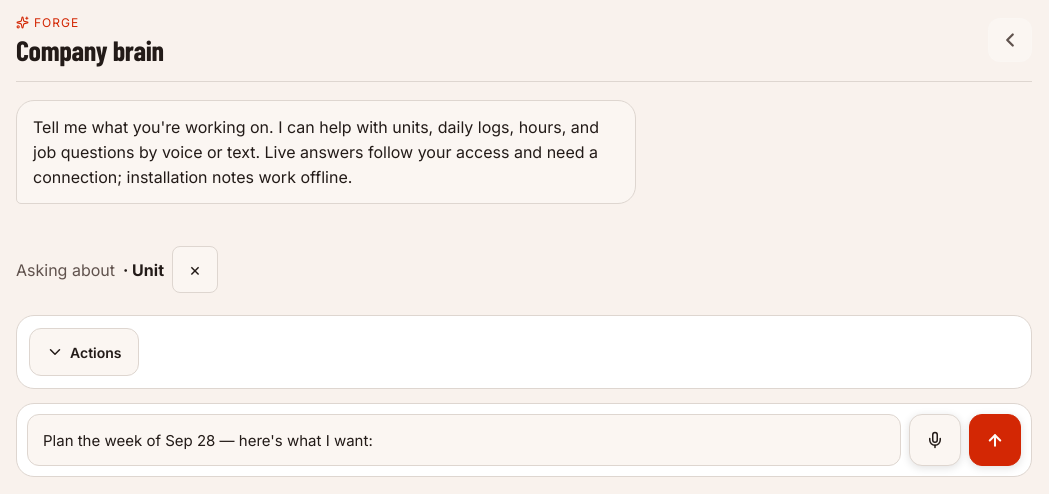
Test: the Plan with AI seed › is cleared, with the tag, when another account signs in on this phone
Expected: the field named "Ask about a window, a term, or how-to…" holds "Plan the week of Sep 28 — here's what I want: ", [27,414,901,466]
Step 1. Click the button "Actions" → x=84, y=352, box [29,328,138,376]
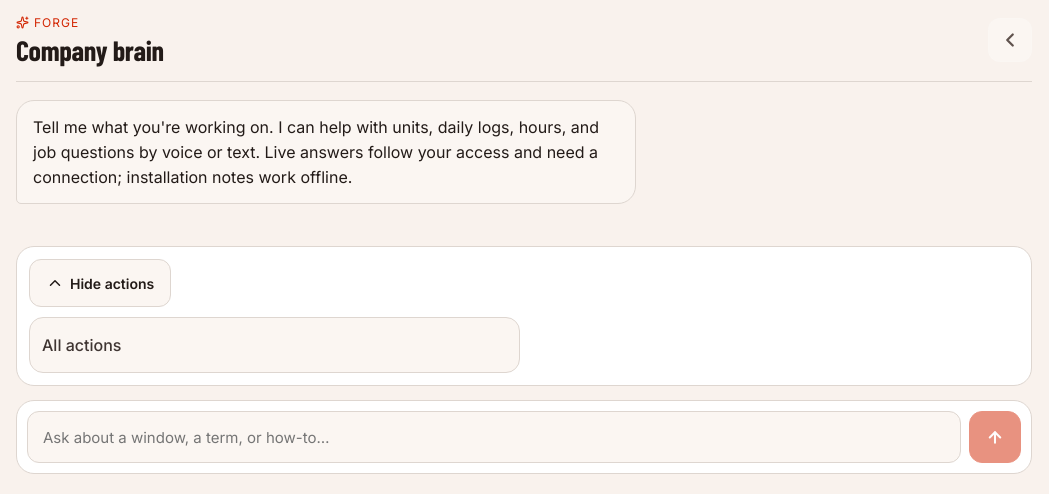
Expected: the field with placeholder "Ask about a window, a term, or how-to…" is empty, [27,411,961,463]
Expected: the message with class "ask-tag" is gone
